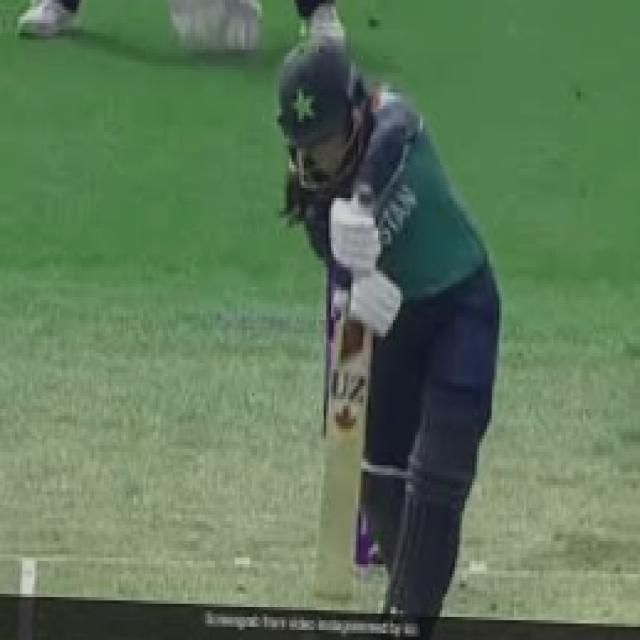bat: (312, 318, 372, 604)
toe: (305, 586, 361, 605)
